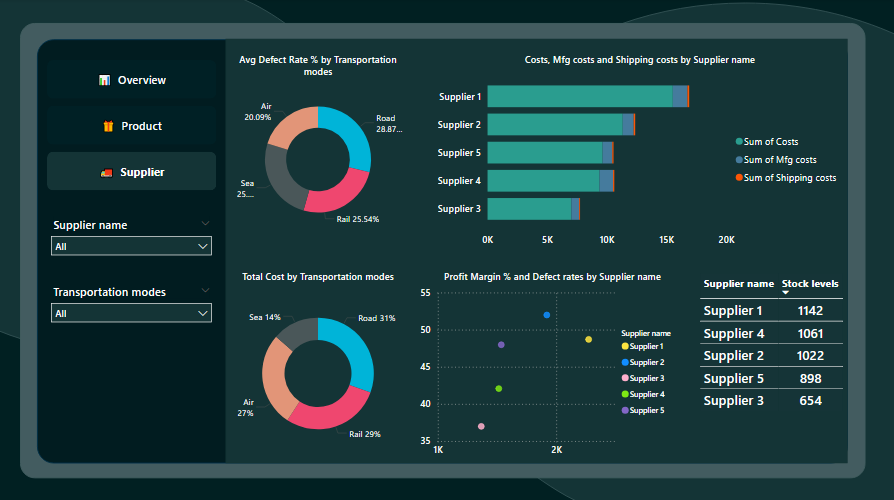

The dashboard page shown, as its layout file describes it:
{"tool":"powerbi","page":{"name":" 🚚  Supplier","canvas":[1280,720],"ordinal":2},"visuals":[{"type":"donutChart","fields":{"Category":["supply_chain_dataset.Transportation modes"],"Y":["Measures (2).Avg Defect Rate %"]},"box":[328.8,76.5,258,267.9],"z":0},{"type":"donutChart","fields":{"Category":["supply_chain_dataset.Transportation modes"],"Y":["Measures (2).Total Cost"]},"box":[328.8,384.1,258,276.4],"z":1000},{"type":"barChart","title":" Costs,  Mfg costs and Shipping costs by Supplier name","fields":{"Category":["supply_chain_dataset.Supplier name"],"Y":["Sum(supply_chain_dataset.Costs)","Sum(supply_chain_dataset.Mfg costs)","Sum(supply_chain_dataset.Shipping costs)"]},"box":[620.8,76.5,586.8,283.5],"z":2000},{"type":"scatterChart","title":" Profit Margin % and  Defect rates by Supplier name","fields":{"X":["Sum(supply_chain_dataset.Profit Margin %)"],"Y":["Sum(supply_chain_dataset.Defect rates)"],"Series":["supply_chain_dataset.Supplier name"]},"box":[596.7,384.1,386.9,273.5],"z":3000},{"type":"tableEx","fields":{"Values":["supply_chain_dataset.Supplier name","Sum(supply_chain_dataset.Stock levels)"]},"box":[993.5,384.1,214,273.5],"z":4000},{"type":"pageNavigator","box":[73.7,86.5,240.9,185.7],"z":5000},{"type":"slicer","fields":{"Values":["supply_chain_dataset.Supplier name"]},"box":[69.4,303.3,248,80.8],"z":6000},{"type":"slicer","fields":{"Values":["supply_chain_dataset.Transportation modes"]},"box":[69.4,398.3,248,80.8],"z":7000}]}

Visuals, with their boxes on the page's 1280x720 design canvas (x1, y1, x2, y2). These are canvas units, not pixel positions in the 894x500 screenshot, which may show the page scaled, cropped or inside an application window:
donutChart - supply_chain_dataset.Transportation modes x Measures (2).Avg Defect Rate %: (x1=329, y1=76, x2=587, y2=344)
donutChart - supply_chain_dataset.Transportation modes x Measures (2).Total Cost: (x1=329, y1=384, x2=587, y2=660)
" Costs,  Mfg costs and Shipping costs by Supplier name" barChart: (x1=621, y1=76, x2=1208, y2=360)
" Profit Margin % and  Defect rates by Supplier name" scatterChart: (x1=597, y1=384, x2=984, y2=658)
tableEx - supply_chain_dataset.Supplier name x Sum(supply_chain_dataset.Stock levels): (x1=994, y1=384, x2=1208, y2=658)
pageNavigator: (x1=74, y1=86, x2=315, y2=272)
slicer - supply_chain_dataset.Supplier name: (x1=69, y1=303, x2=317, y2=384)
slicer - supply_chain_dataset.Transportation modes: (x1=69, y1=398, x2=317, y2=479)
